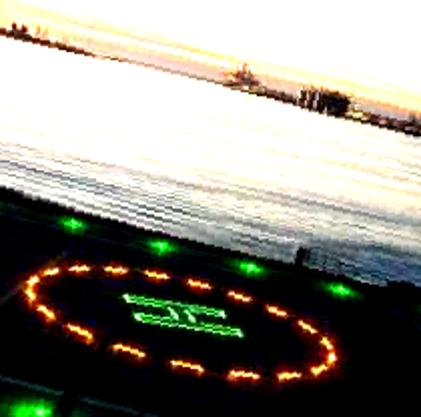Apron: (19, 230, 339, 387)
